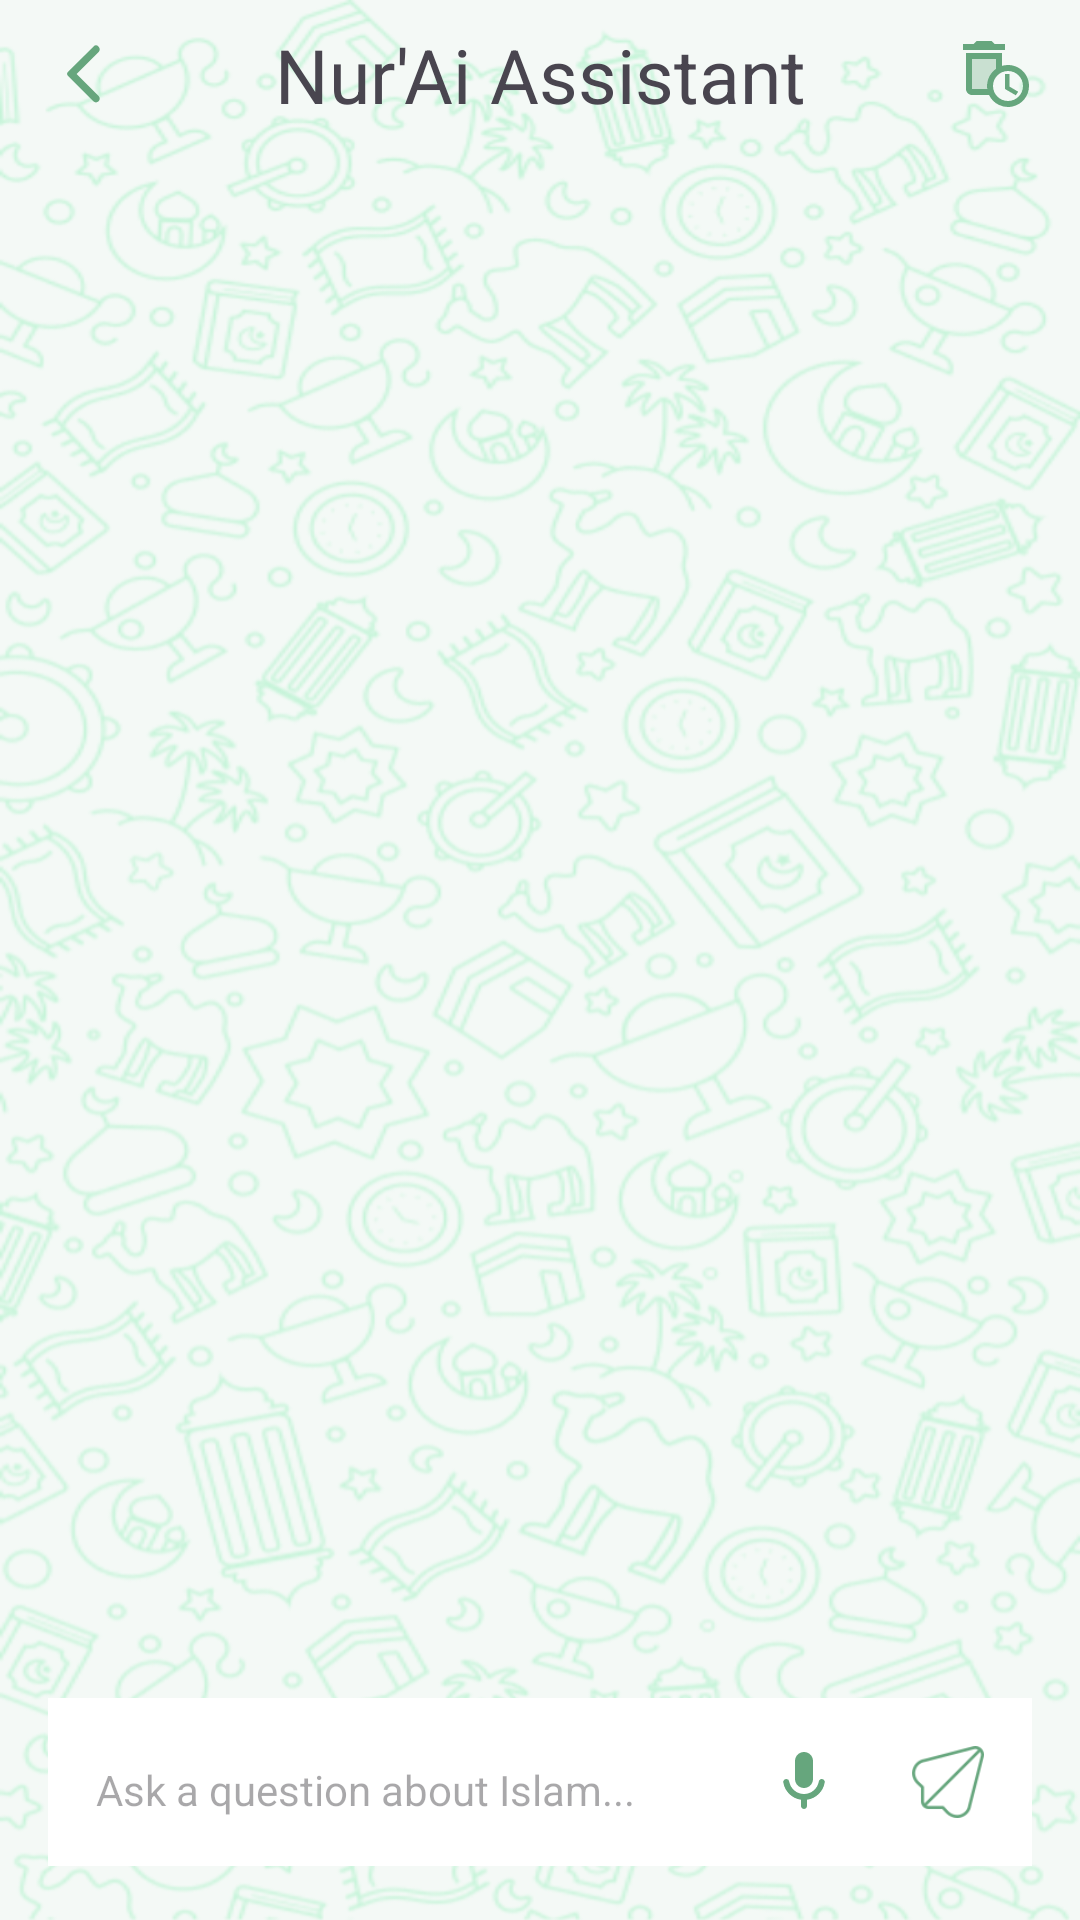

Locate icon controls on the screen. Image size 1080 x 1920, boxes as bbox=[x1, y1, x2, y2].
back: bbox=[48, 45, 144, 129]
history delete twotone: bbox=[963, 41, 1045, 107]
mic round: bbox=[783, 1752, 825, 1809]
paper plane: bbox=[912, 1746, 984, 1818]
